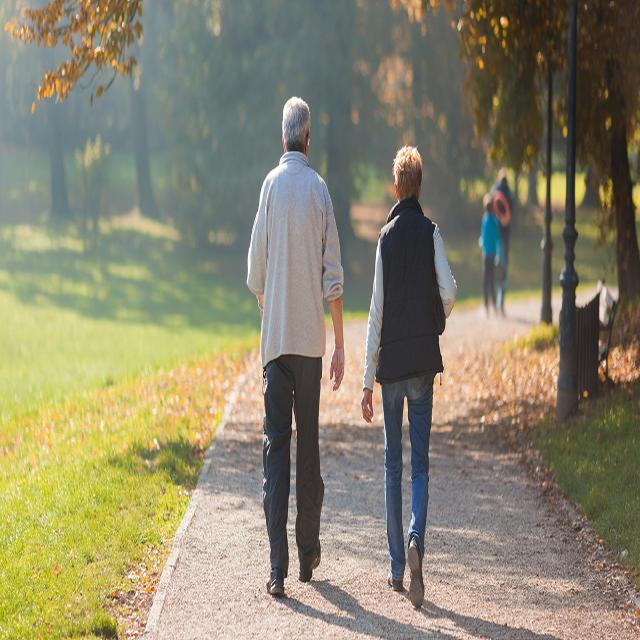Person: (248, 95, 344, 593), (361, 146, 458, 610), (480, 194, 500, 315)
